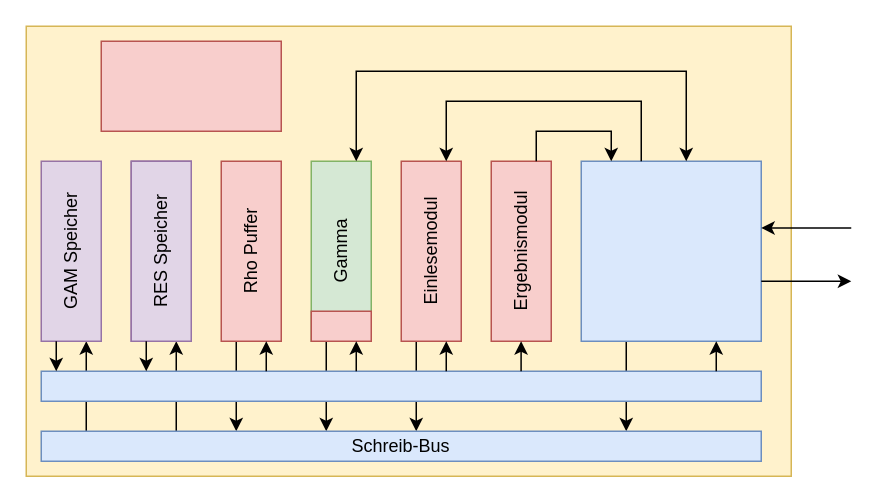
This 890x503 diagram has some shape labels left out. Here are the shapes that lost their labels. From the top down, the centre of each, then its label:
point (190, 85): Zustandsautomat
point (670, 250): Kommunikations- modul
point (400, 385): Lese-Bus
